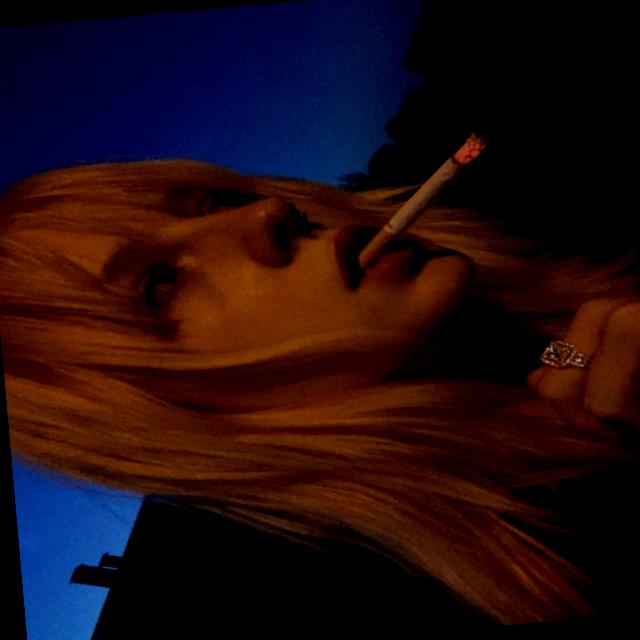smoke: (326, 104, 525, 272)
